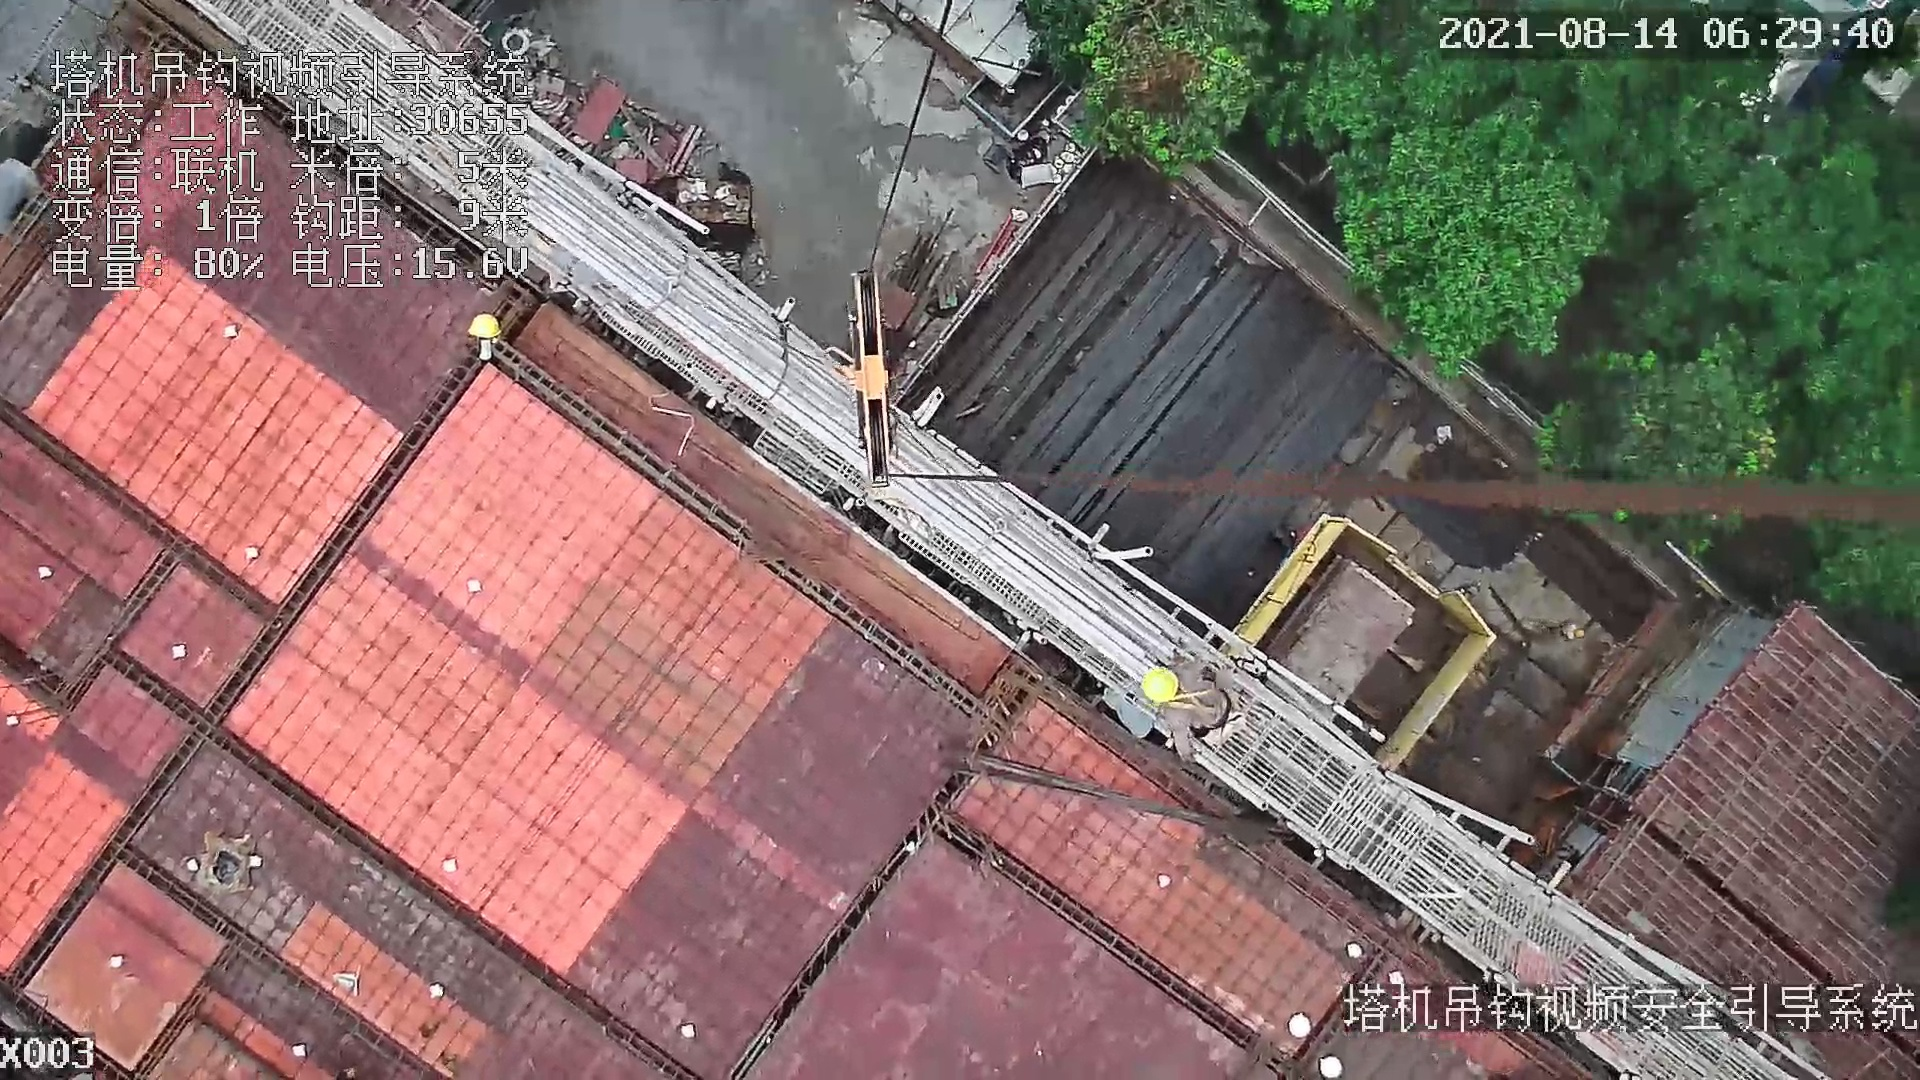helmet: (1140, 668, 1185, 709), (468, 308, 504, 340)
hook: (845, 268, 897, 491)
person: (1140, 653, 1258, 765)
rebar: (932, 151, 1358, 577)
